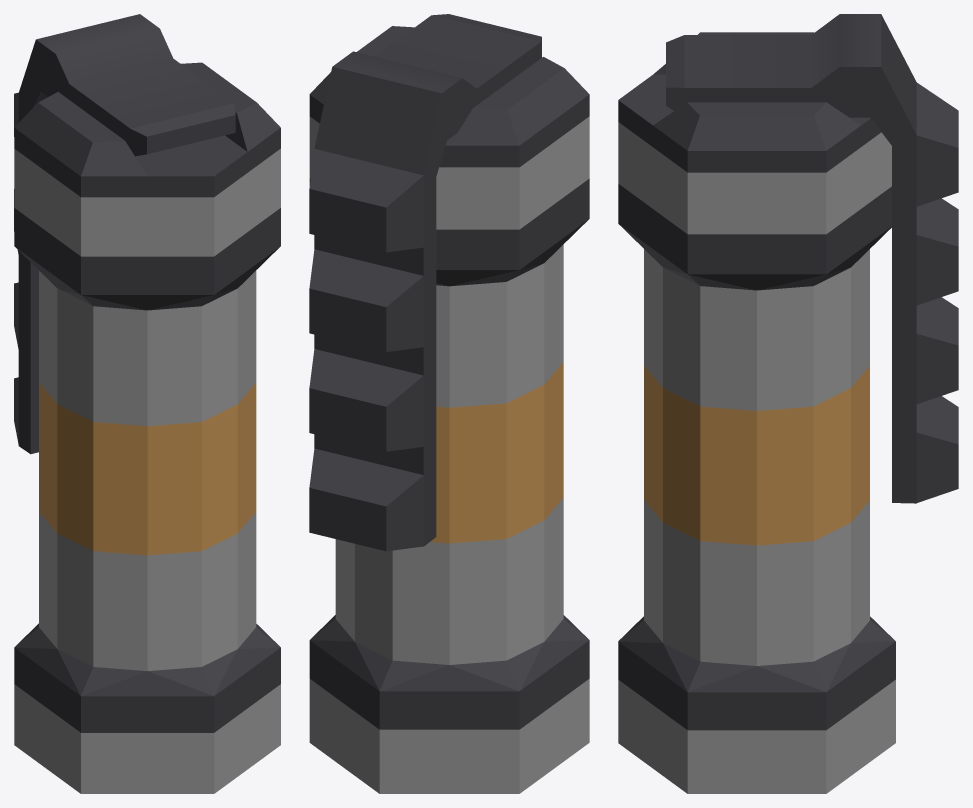
File: city_SM_Wep_Grenade_Stun_01.gltf
3 views of the same model, side by side, from view 1: azimuth 30°, elevation 25°; view 2: azimuth 150°, elevation 25°; view 3: azimuth 270°, elevation 25° (orthographic). The views are drawn at different scales.
Visible parts, largest first — view 1: SM_Wep_Grenade_Stun_01, SM_Wep_Grenade_Stun_01_Clip; view 2: SM_Wep_Grenade_Stun_01, SM_Wep_Grenade_Stun_01_Clip; view 3: SM_Wep_Grenade_Stun_01, SM_Wep_Grenade_Stun_01_Clip.
Part boxes in pixels (x1,y1,x2,y2): SM_Wep_Grenade_Stun_01: [14, 62, 280, 793]; SM_Wep_Grenade_Stun_01_Clip: [14, 14, 235, 454]; SM_Wep_Grenade_Stun_01: [309, 26, 589, 793]; SM_Wep_Grenade_Stun_01_Clip: [309, 14, 541, 551]; SM_Wep_Grenade_Stun_01: [618, 32, 895, 793]; SM_Wep_Grenade_Stun_01_Clip: [666, 14, 958, 503].
Bounding box in the file's own units: 0.0474 × 0.1529 × 0.0671.
1 material, 1 textured.
